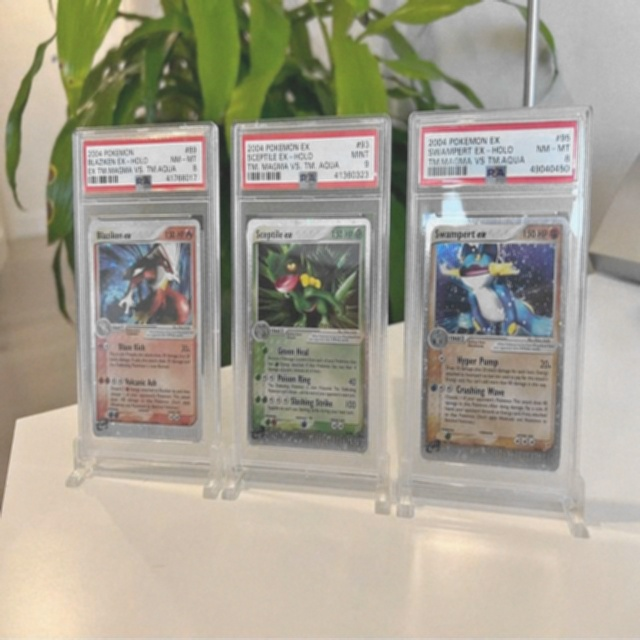card: (420, 217, 569, 474), (247, 218, 372, 453), (90, 220, 204, 444)
